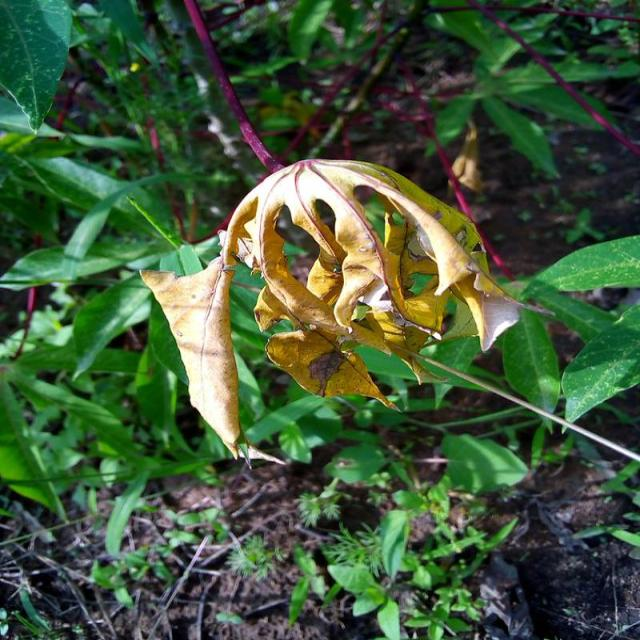cassava leaf: (140, 156, 534, 464)
